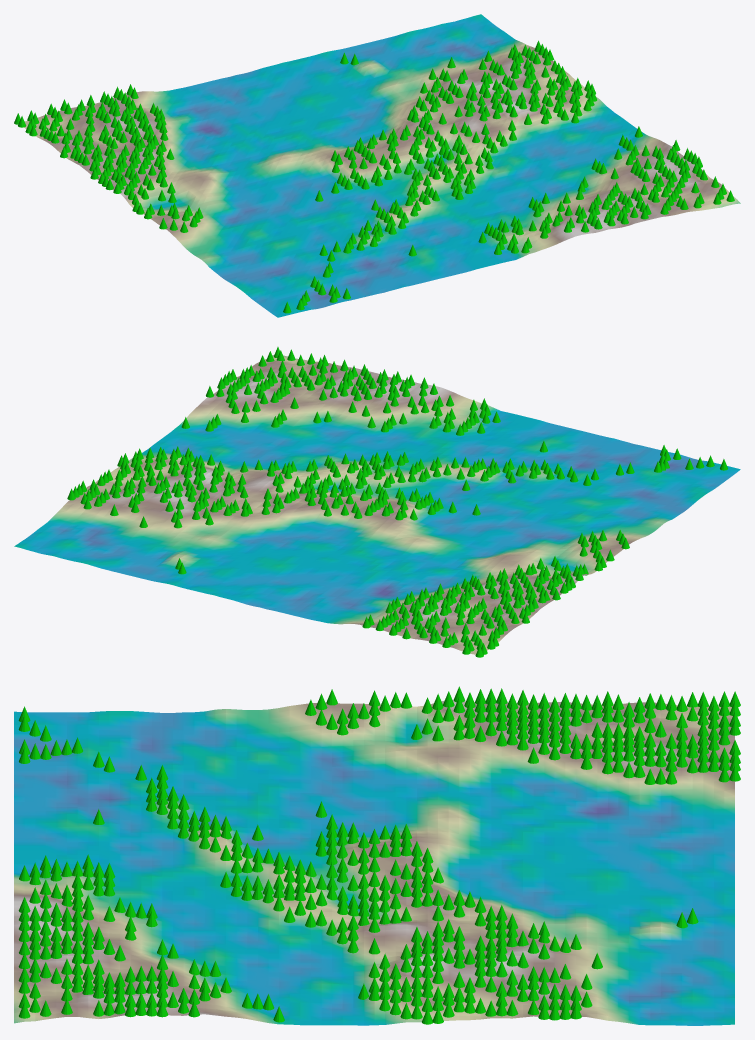
File: 000005_with_tree.glb
3 renders of one model, top to bottom at view 1: azimuth 30°, elevation 25°; view 2: azimuth 150°, elevation 25°; view 3: azimuth 270°, elevation 25°, orthographic. The views are drawn at different scales.
Visible parts, largest first — view 1: terrain, trees; view 2: terrain, trees; view 3: terrain, trees.
Part boxes in pixels (box(x1,y1,x2,y2)): terrain: box(24, 14, 740, 317); trees: box(14, 40, 734, 313); terrain: box(14, 354, 740, 654); trees: box(67, 347, 727, 657); terrain: box(14, 700, 734, 1025); trees: box(18, 686, 740, 1024).
Bounding box in the file's own units: 0.0192 × 0.000815 × 0.0185.
